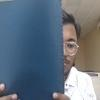notebook: (0, 0, 65, 99)
